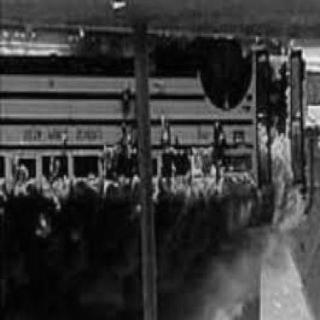Fire: (0, 145, 254, 232)
Smoke: (4, 194, 262, 318)
